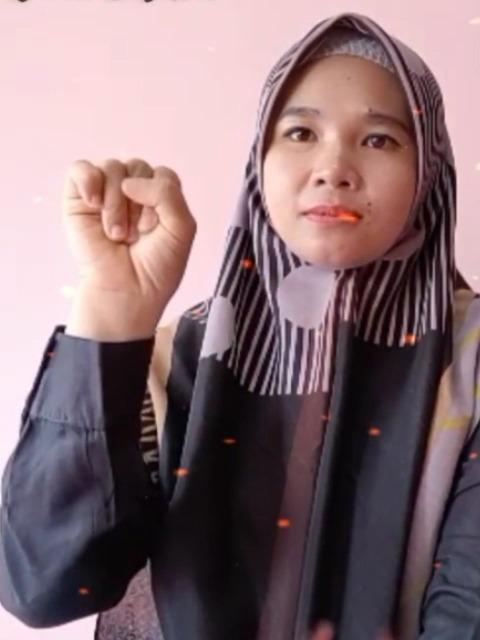S: (54, 148, 202, 314)
